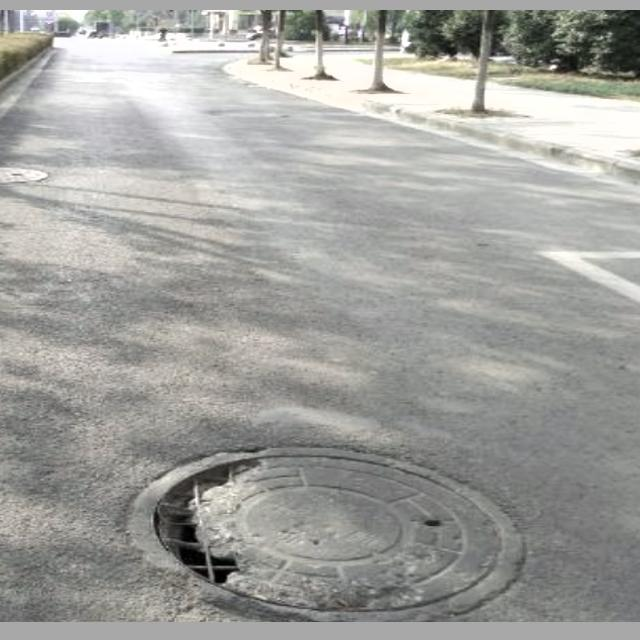broke: (128, 442, 528, 622)
